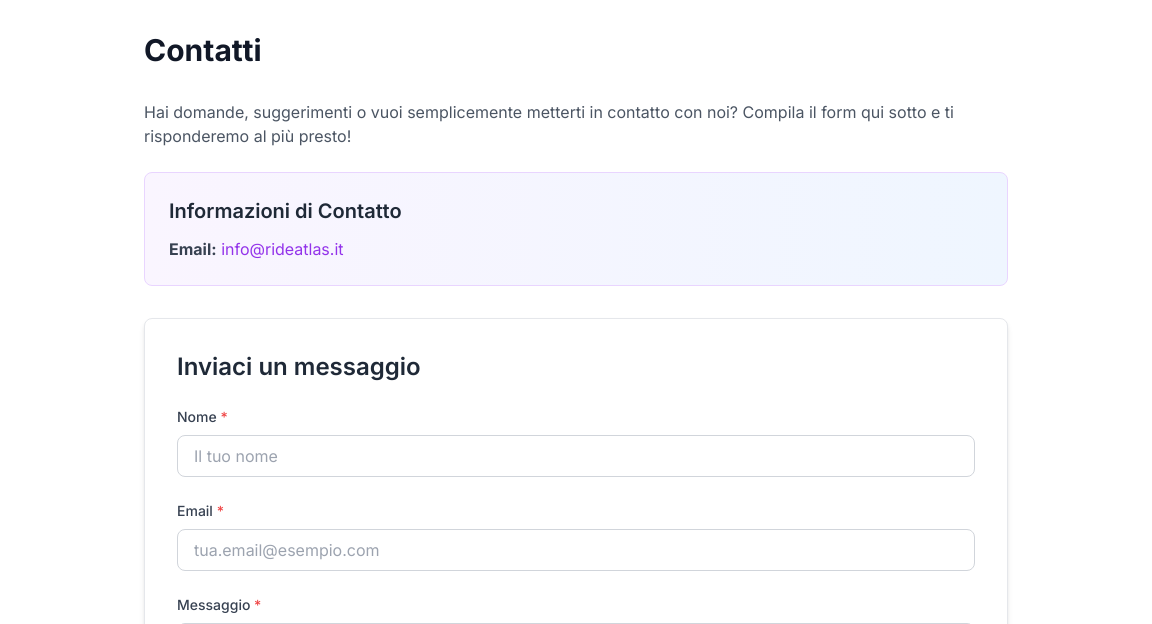
Test: ContattiPage › shows success message after successful submission
Type "Mario Rossi" into the field labelled "Nome *". click: (576, 456)
box: [177, 435, 975, 477]
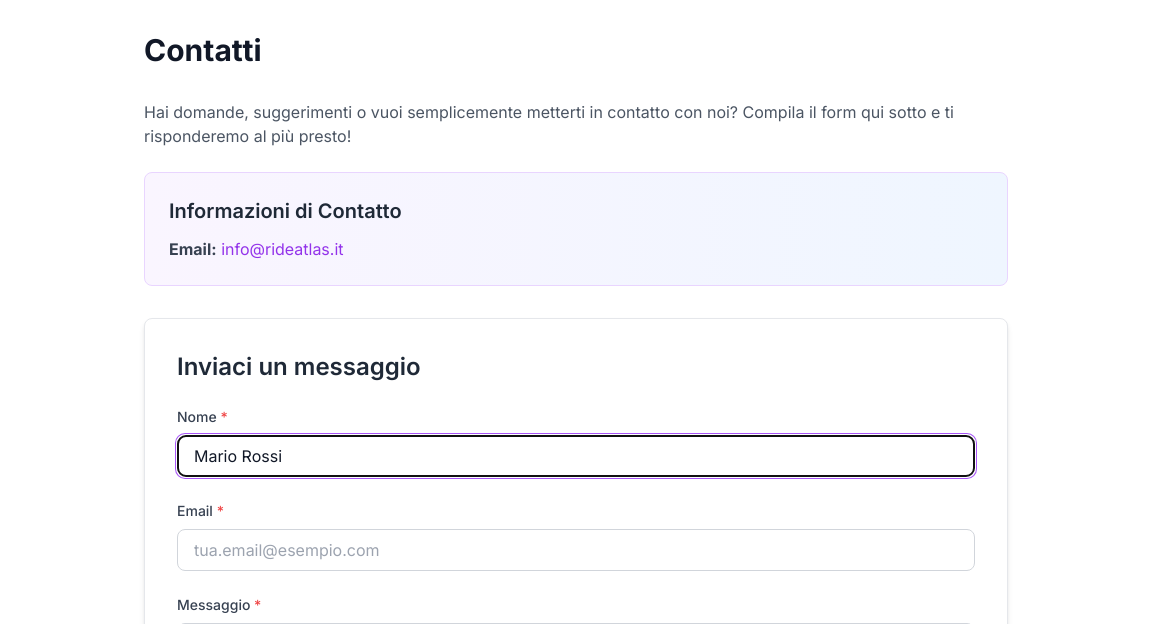
Type "mario@example.com" into the field labelled "Email *". click: (576, 550)
box: [177, 529, 975, 571]
(page scrolled)
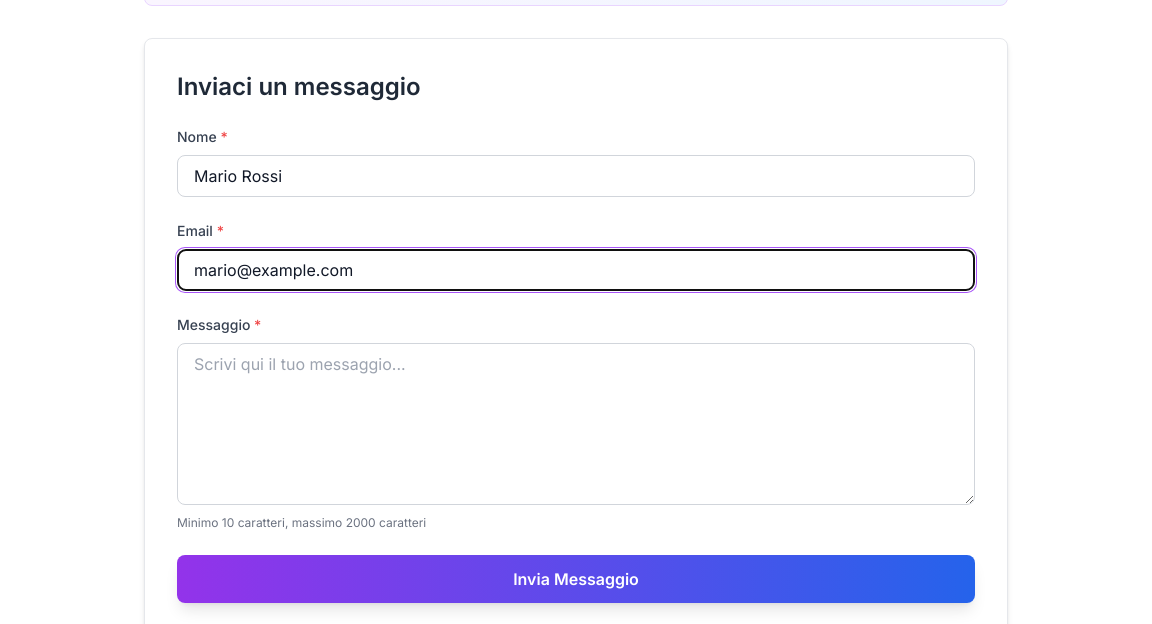
Type "Vorrei avere maggiori informazioni sui vostri itinerari." into the text box labelled "Messaggio *". click: (576, 424)
box: [177, 343, 975, 505]
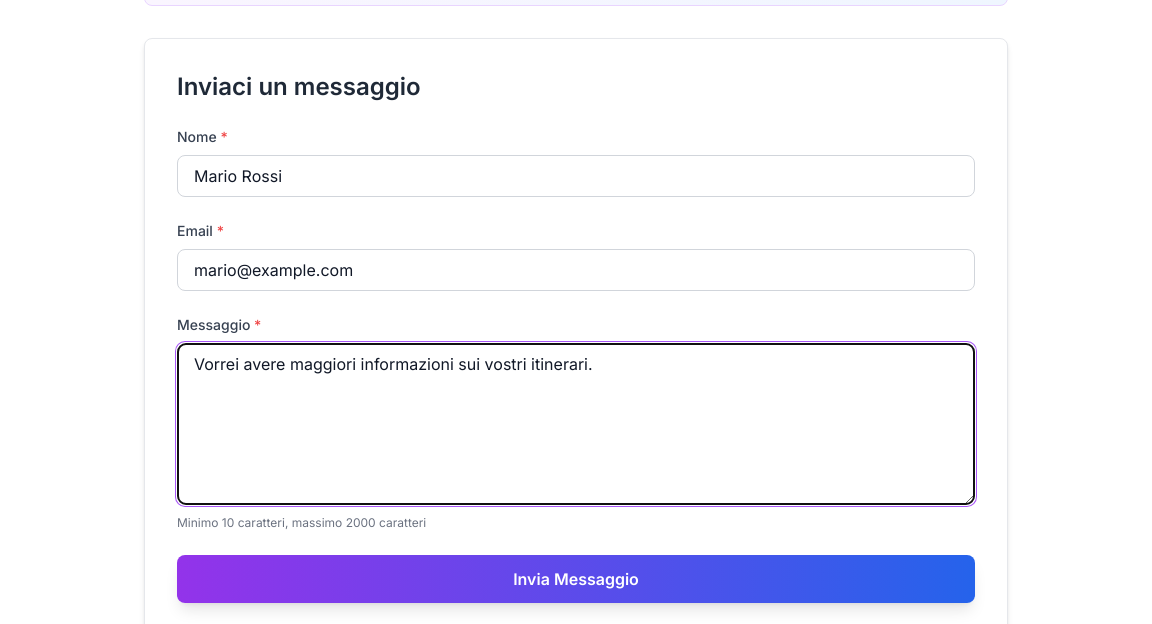
Click the button "Invia Messaggio". click: (576, 579)
box: [177, 555, 975, 603]
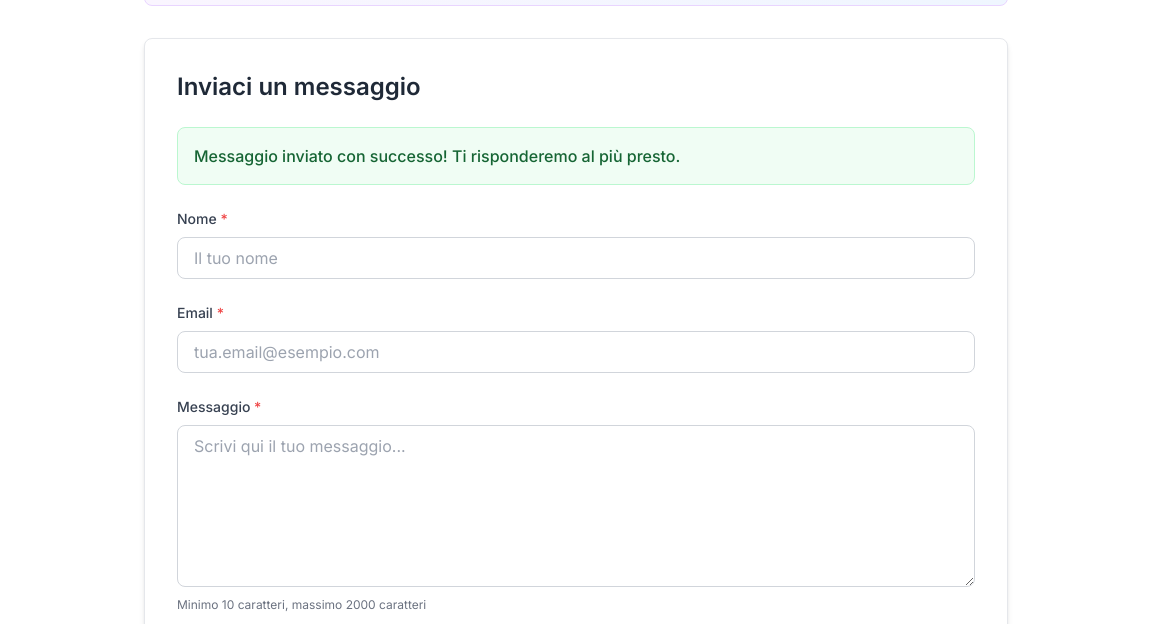
Now the text "Messaggio inviato con successo" is shown, box [194, 146, 680, 166]
